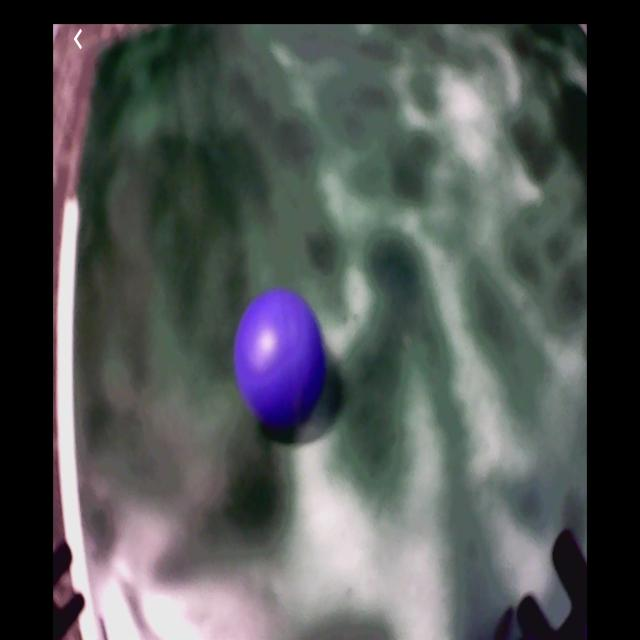ball: (236, 286, 323, 430)
